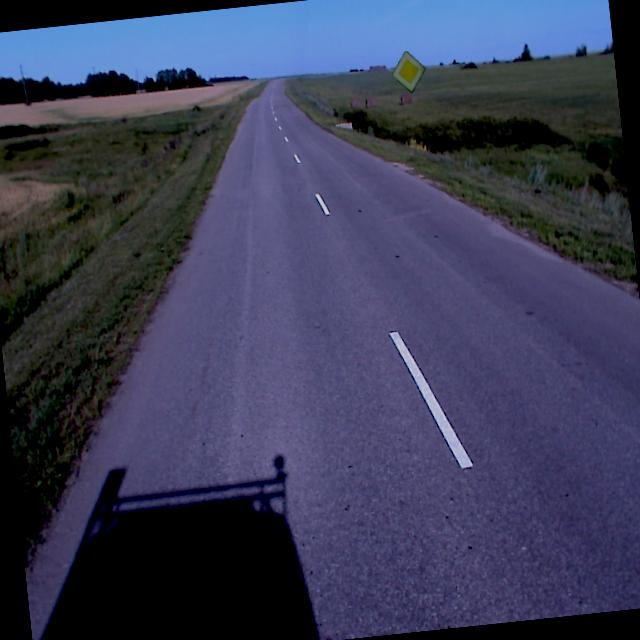road: (28, 75, 640, 640)
